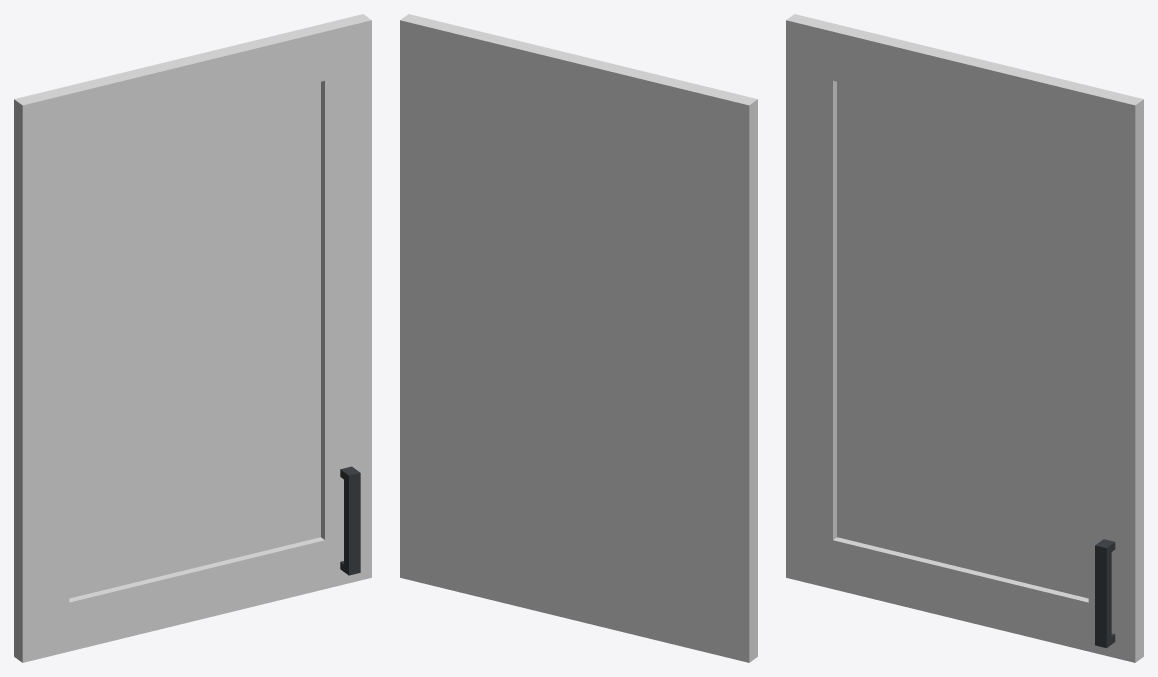
The model's file is Door2_C1_12.fbx.
The picture shows the model from 3 angles, left to right: view 1: azimuth 30°, elevation 25°; view 2: azimuth 150°, elevation 25°; view 3: azimuth 330°, elevation 25°; orthographic projection.
Parts seen in each view (by area): view 1: Door2_C1_12; view 2: Door2_C1_12; view 3: Door2_C1_12.
Boxes of the visible parts, <box> form: Door2_C1_12: <box>14,14,371,662</box>; Door2_C1_12: <box>400,14,757,662</box>; Door2_C1_12: <box>786,14,1143,662</box>.
Bounding box in the file's own units: 59 × 90 × 5.03.
